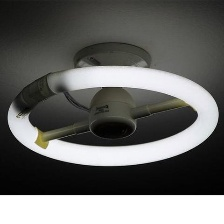light_bulb: (4, 61, 221, 170)
